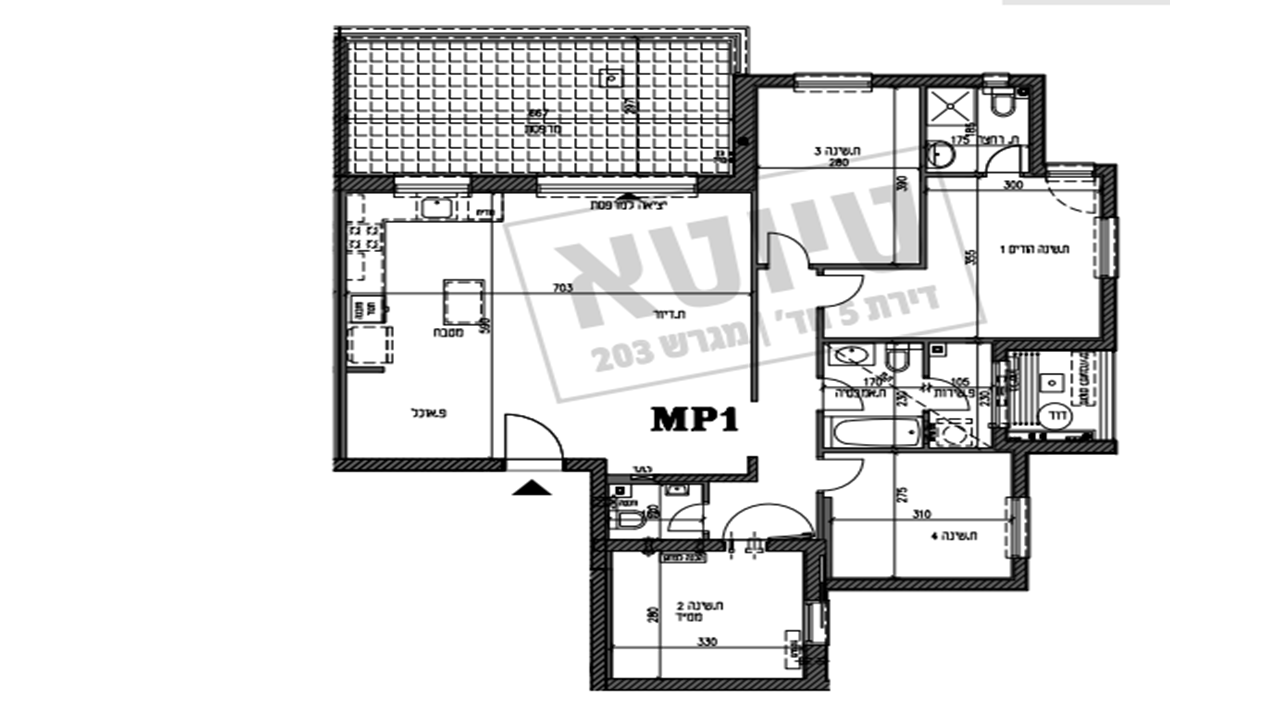door: (502, 409, 566, 474), (808, 451, 866, 498), (809, 370, 867, 417), (919, 370, 977, 417), (811, 269, 869, 316), (759, 225, 817, 272)
wall: (589, 459, 612, 690), (593, 678, 832, 689), (733, 75, 755, 191), (1026, 73, 1049, 173)
window: (528, 169, 696, 208), (383, 168, 478, 199), (783, 65, 878, 96), (1088, 208, 1125, 283), (1001, 490, 1035, 564)
